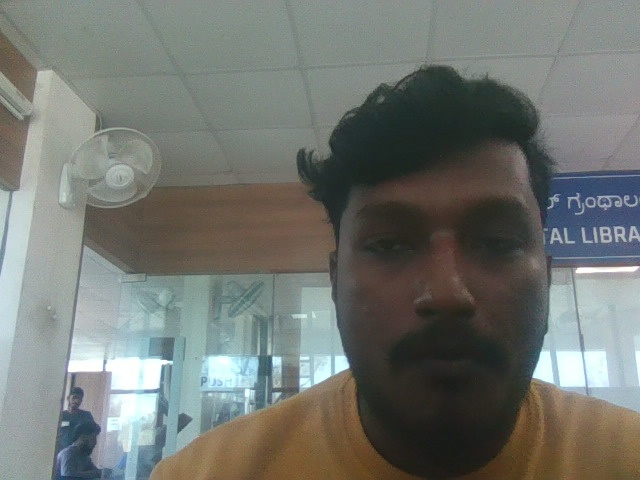real: (299, 46, 591, 460)
